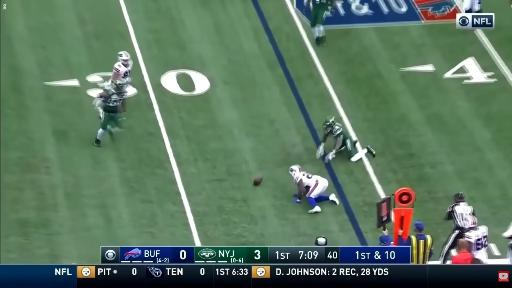Helmet: (111, 81, 126, 93), (324, 116, 335, 132), (118, 51, 130, 65), (290, 165, 301, 176), (467, 216, 477, 228)
Jersey: (464, 226, 488, 263), (294, 172, 328, 197), (103, 80, 126, 112), (113, 60, 133, 81), (294, 172, 320, 187), (324, 123, 343, 137), (312, 0, 330, 10)
Player: (317, 117, 375, 162), (290, 165, 339, 213), (95, 80, 126, 147), (99, 51, 133, 88), (305, 0, 332, 46), (464, 216, 488, 263), (111, 51, 133, 83)
